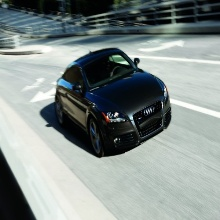no damage: (55, 47, 172, 159)
